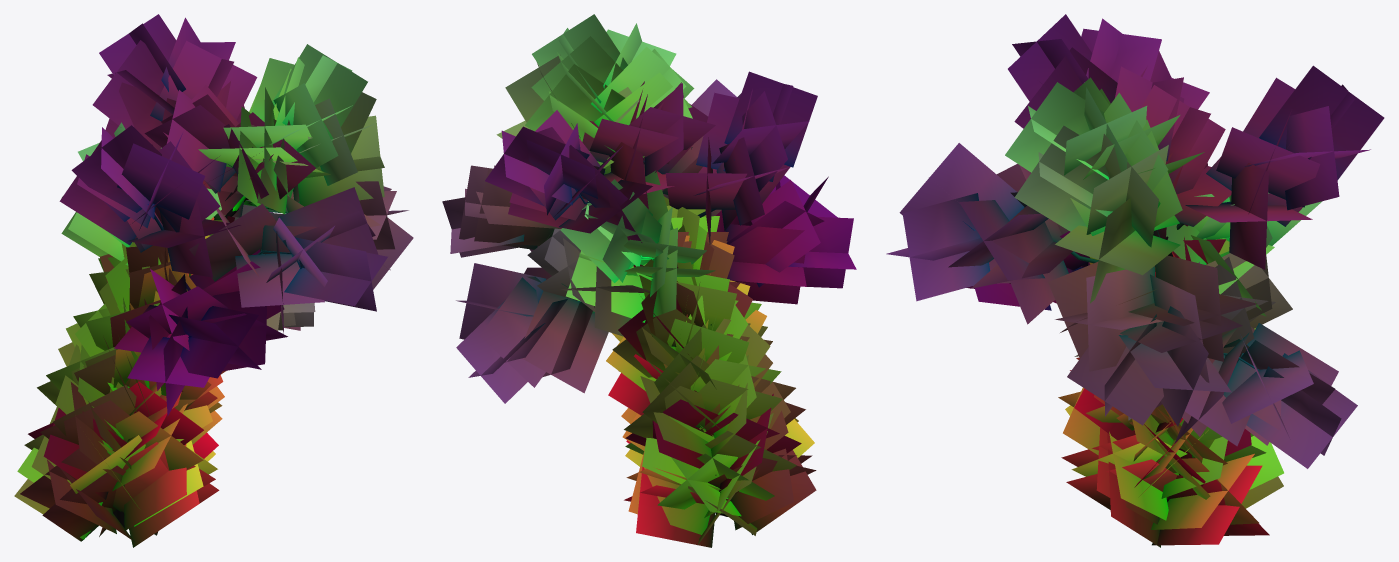
File: URP_P3_Tree_13_LOD_0.fbx
3 views of the same model, side by side, from view 1: azimuth 30°, elevation 25°; view 2: azimuth 150°, elevation 25°; view 3: azimuth 270°, elevation 25° (orthographic). The views are drawn at different scales.
Parts seen in each view (by area): view 1: Tree_13_LOD_0; view 2: Tree_13_LOD_0; view 3: Tree_13_LOD_0.
Boxes of the visible parts, x1,y1,x2,y2 form: Tree_13_LOD_0: (14,14,413,547); Tree_13_LOD_0: (442,14,856,547); Tree_13_LOD_0: (886,14,1384,547).
Bounding box in the file's own units: 559 × 682 × 565.
